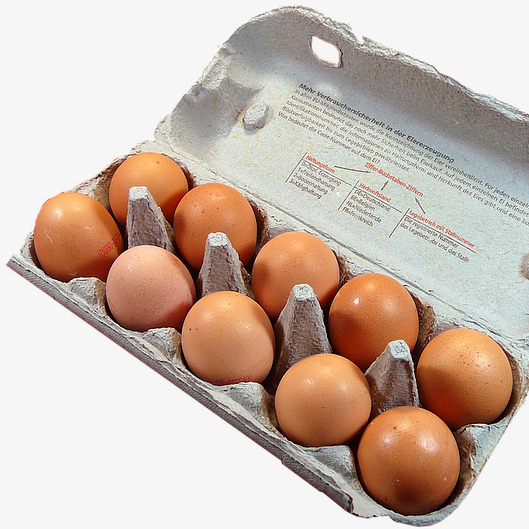egg: (33, 151, 518, 513)
